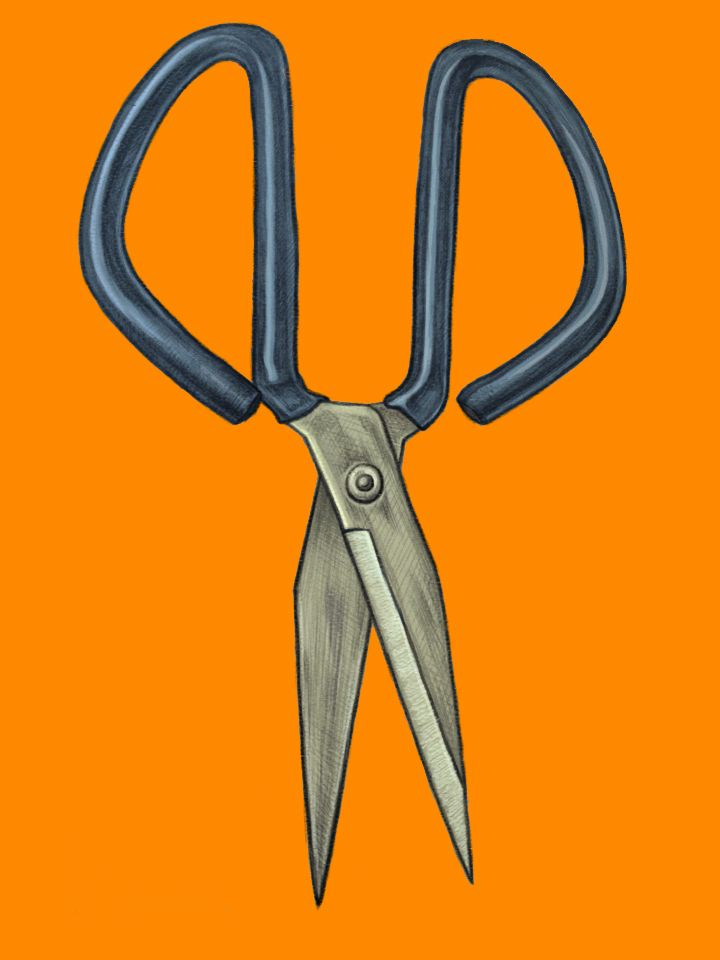scissor: (66, 23, 631, 911)
